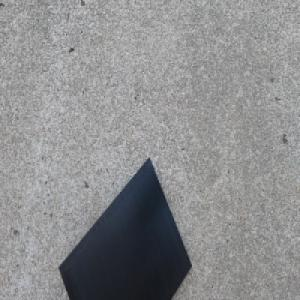PlasticPart: (54, 155, 191, 300)
